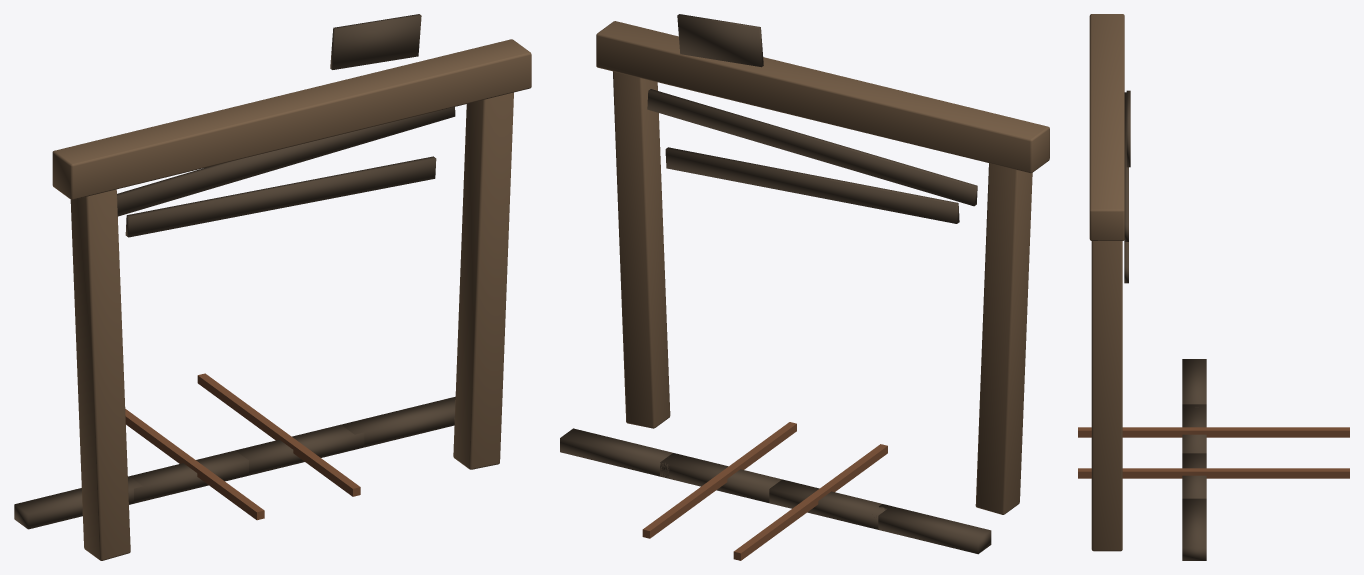
The model's file is minemouth.glb.
3 renders of one model, left to right at view 1: azimuth 30°, elevation 25°; view 2: azimuth 150°, elevation 25°; view 3: azimuth 270°, elevation 25°, orthographic. The views are drawn at different scales.
Parts seen in each view (by area): view 1: lintel, post.006, post.005, board.001, board, sign, tie.003, tie.002, tie.001, rail.011, rail.012, tie; view 2: lintel, post.006, post.005, board, board.001, sign, tie, tie.003, tie.002, tie.001, rail.011, rail.012; view 3: post.006, lintel, rail.011, rail.012, tie.003, tie, tie.001, tie.002, board, sign.
Part boxes in pixels (box(x1,y1,x2,y2)): lintel: box(52, 39, 531, 199); post.006: box(453, 92, 513, 469); post.005: box(70, 189, 130, 560); board.001: box(125, 156, 436, 237); board: box(117, 107, 455, 216); sign: box(330, 14, 421, 69); tie.003: box(341, 396, 455, 447); tie.002: box(235, 423, 364, 475); tie.001: box(130, 450, 248, 503); rail.011: box(197, 373, 360, 496); rail.012: box(125, 409, 264, 520); tie: box(14, 476, 142, 529); lintel: box(596, 21, 1049, 173); post.006: box(613, 71, 670, 428); post.005: box(975, 163, 1032, 514); board: box(647, 89, 977, 206); board.001: box(665, 147, 959, 223); sign: box(677, 14, 763, 67); tie: box(878, 504, 991, 554); tie.003: box(560, 428, 672, 478); tie.002: box(660, 453, 781, 502); tie.001: box(769, 479, 886, 529); rail.011: box(642, 422, 796, 538); rail.012: box(733, 444, 887, 560); post.006: box(1091, 241, 1122, 551); lintel: box(1089, 14, 1124, 240); rail.011: box(1078, 468, 1349, 478); rail.012: box(1078, 427, 1349, 437); tie.003: box(1182, 498, 1206, 560); tie: box(1182, 359, 1206, 404); tie.001: box(1182, 404, 1206, 453); tie.002: box(1182, 453, 1206, 498); board: box(1124, 92, 1128, 241); sign: box(1126, 90, 1130, 167).
Bounding box in the file's own units: 4.8 × 4.54 × 2.8.
